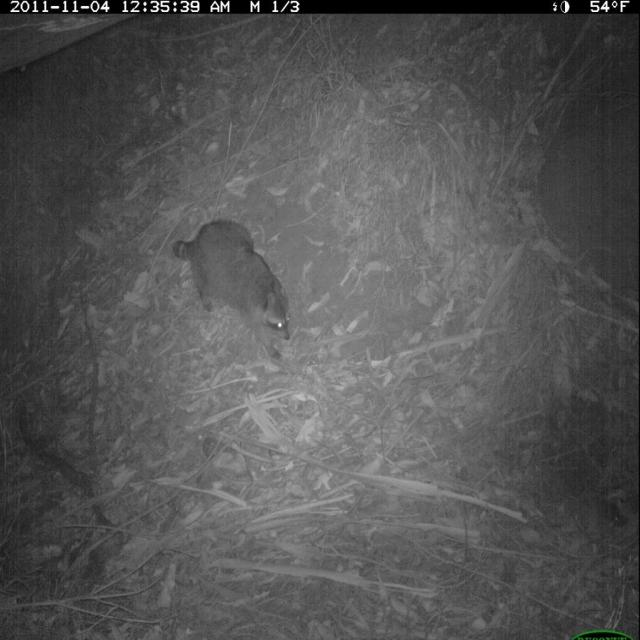raccoon: (164, 197, 306, 380)
